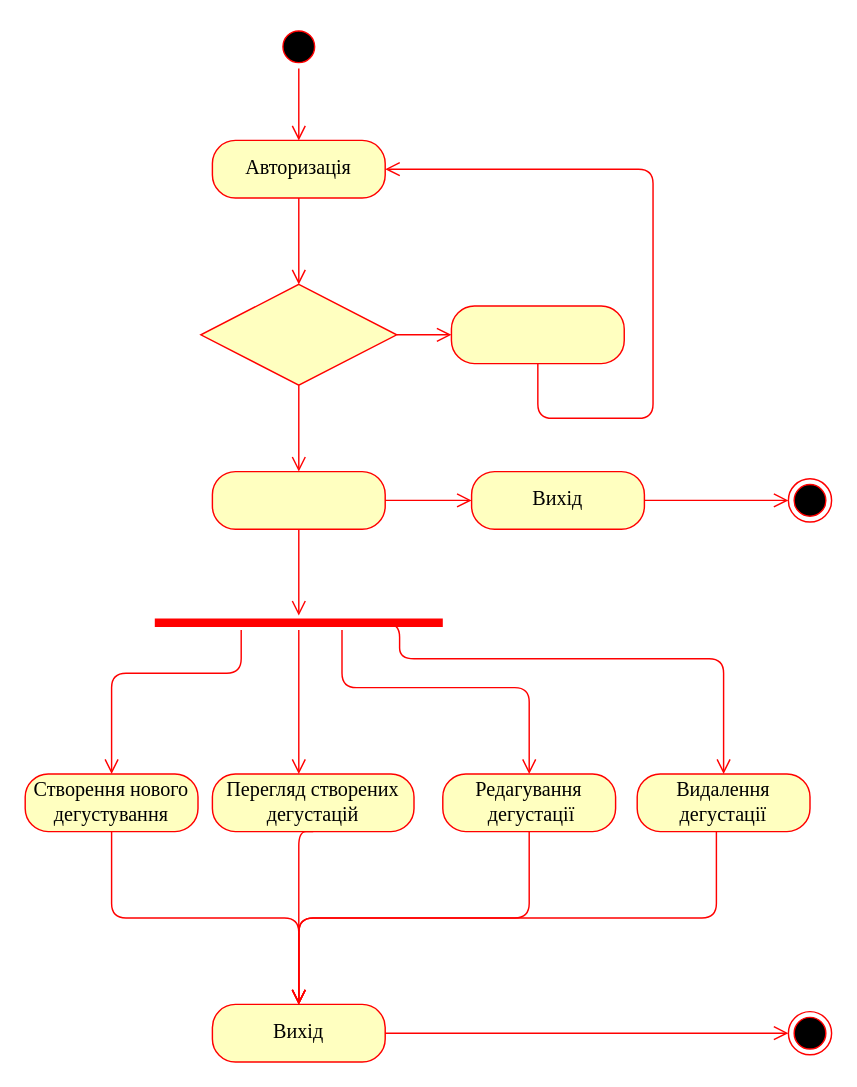
The diagram is 857 pixels wide and 1087 high, and some of its shapes have lost their labels. Here are the shapes that lost their labels. From the top down, the box of each, then its label:
(199, 283, 397, 385): Користувача знайдено
(450, 305, 624, 364): Реєстрація
(211, 470, 385, 529): Вибір дій (Головна сторінка)
